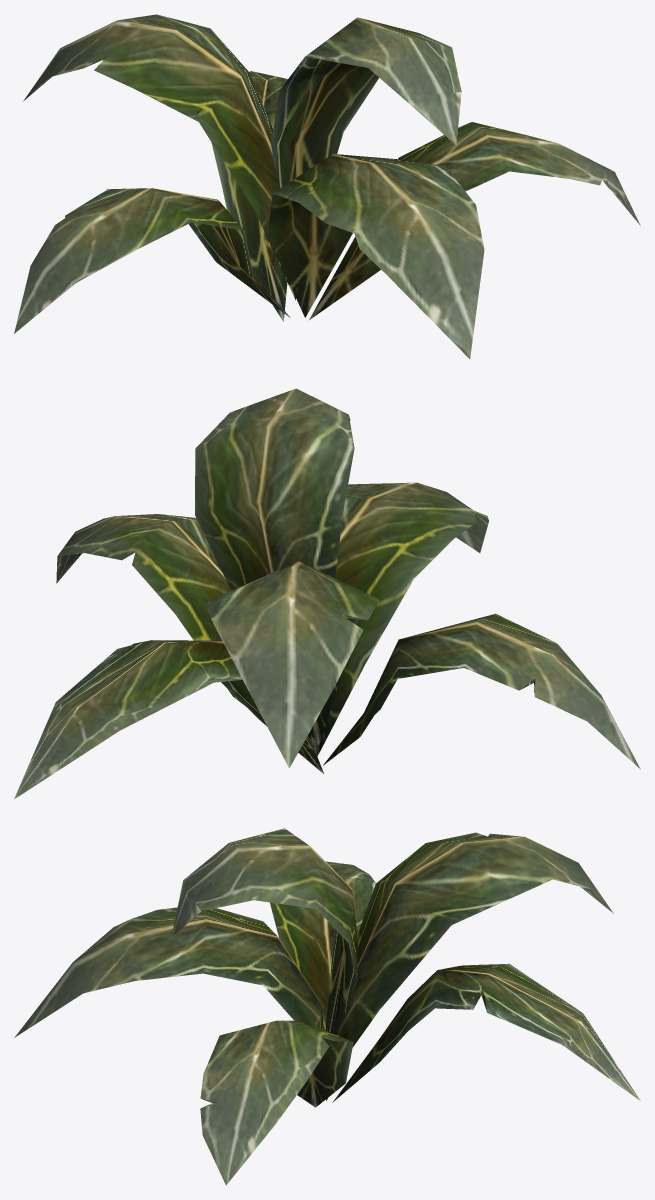
File: SM_Plains_Fern01.FBX
3 views of the same model, one above another, from view 1: azimuth 30°, elevation 25°; view 2: azimuth 150°, elevation 25°; view 3: azimuth 270°, elevation 25° (orthographic). The views are drawn at different scales.
Parts seen in each view (by area): view 1: SM_Plains_Fern01; view 2: SM_Plains_Fern01; view 3: SM_Plains_Fern01.
Boxes of the visible parts, x1,y1,x2,y2 form: SM_Plains_Fern01: [14, 14, 640, 358]; SM_Plains_Fern01: [14, 388, 640, 798]; SM_Plains_Fern01: [14, 828, 640, 1185].
Size of the model in its own units: 108 by 53.57 by 105.
Materials: 1 (1 with a texture image).
